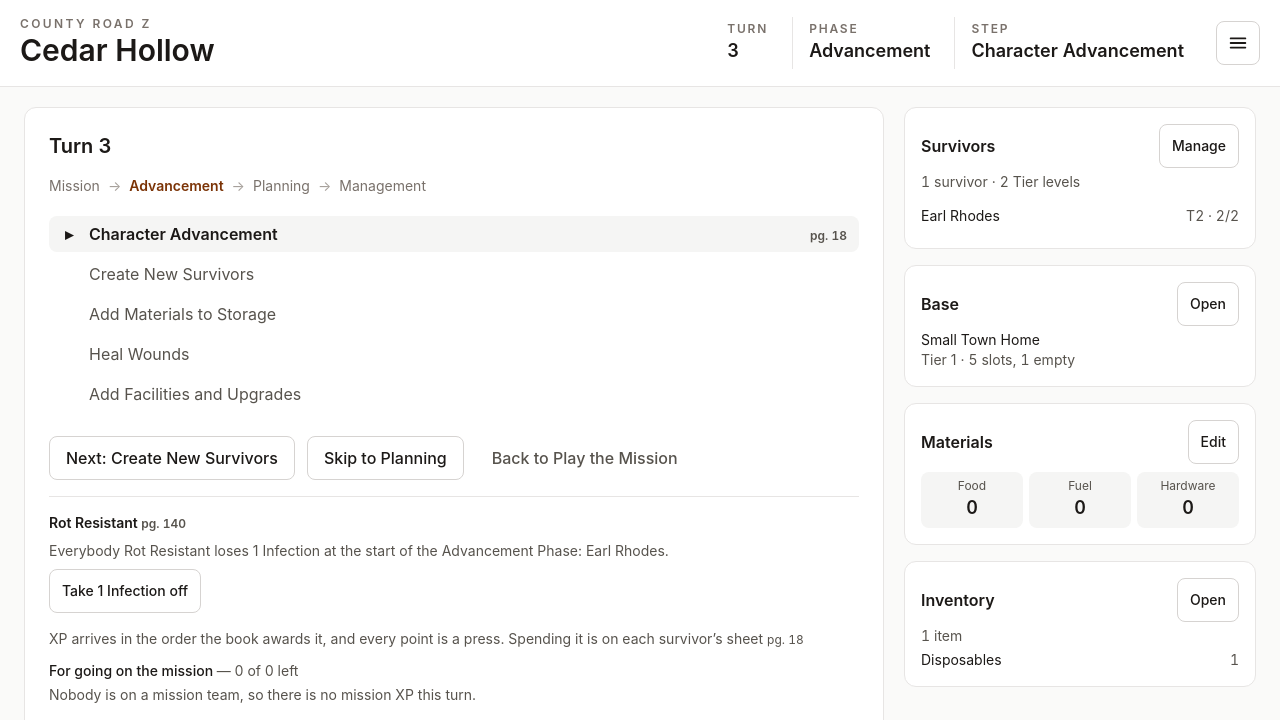
Scenario: Rot Resistant at Character Advancement (pg. 140; R96) › takes 1 Infection off everybody Rot Resistant, once
Check: the text "loses 1 Infection at the start of the Advancement Phase: Earl Rhodes" is shown, box [49,542,669,558]
Click the button "Take 1 Infection off".
click(125, 590)  # box [49,568,201,612]
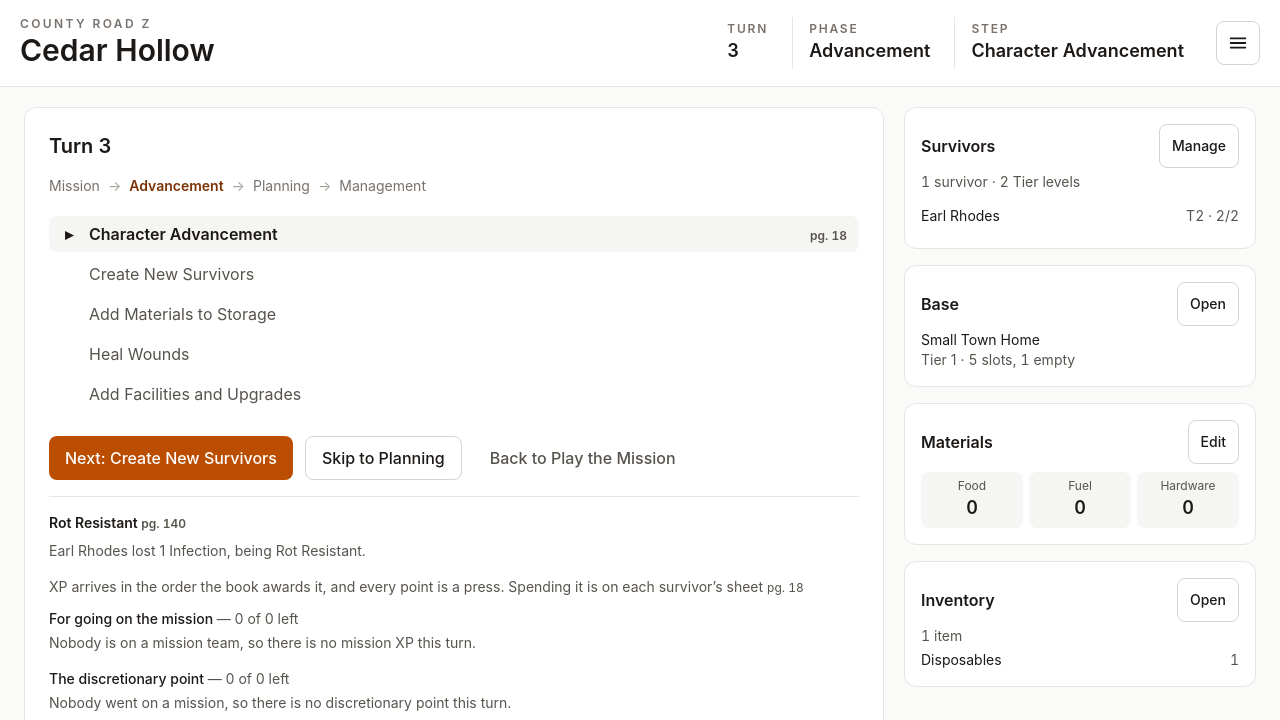
Check: the text "Earl Rhodes lost 1 Infection, being Rot Resistant." is shown, box [49,542,366,558]
Check: the button "Take 1 Infection off" is gone
Click the button named "menu".
click(1238, 43)  # box [1216,21,1260,65]
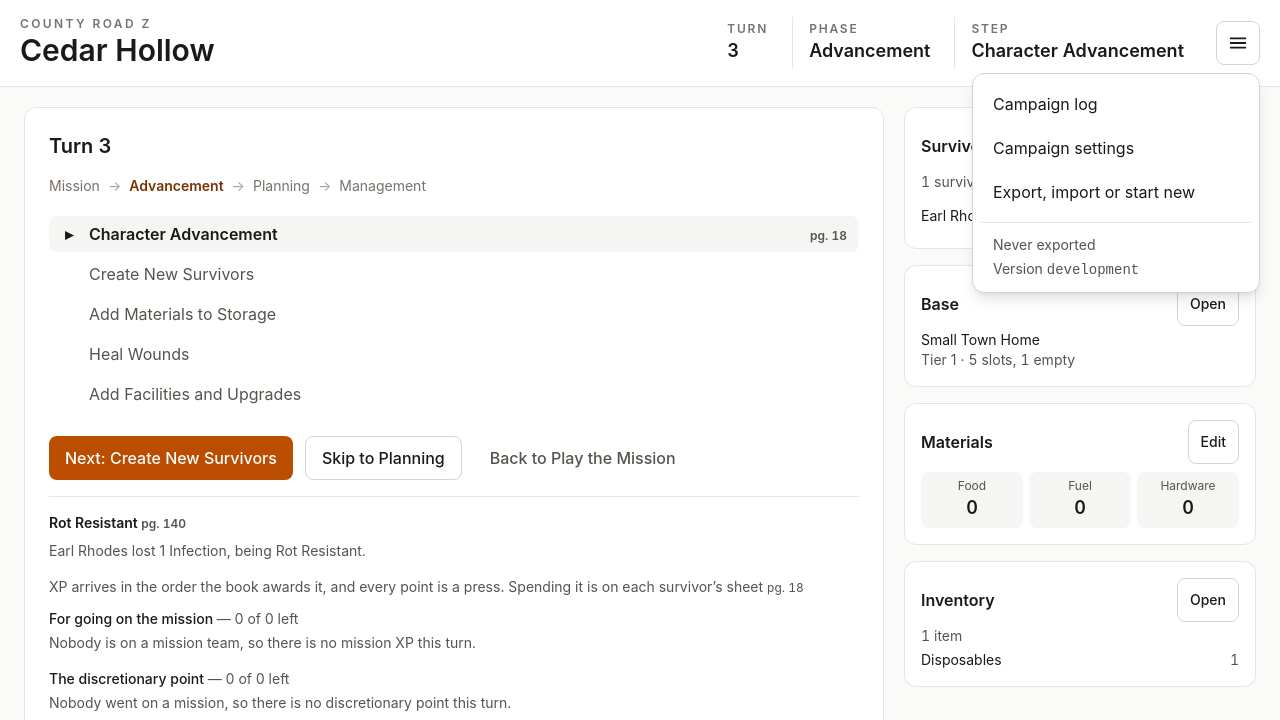
Click the button "Campaign log".
click(1045, 104)  # box [981,82,1251,126]
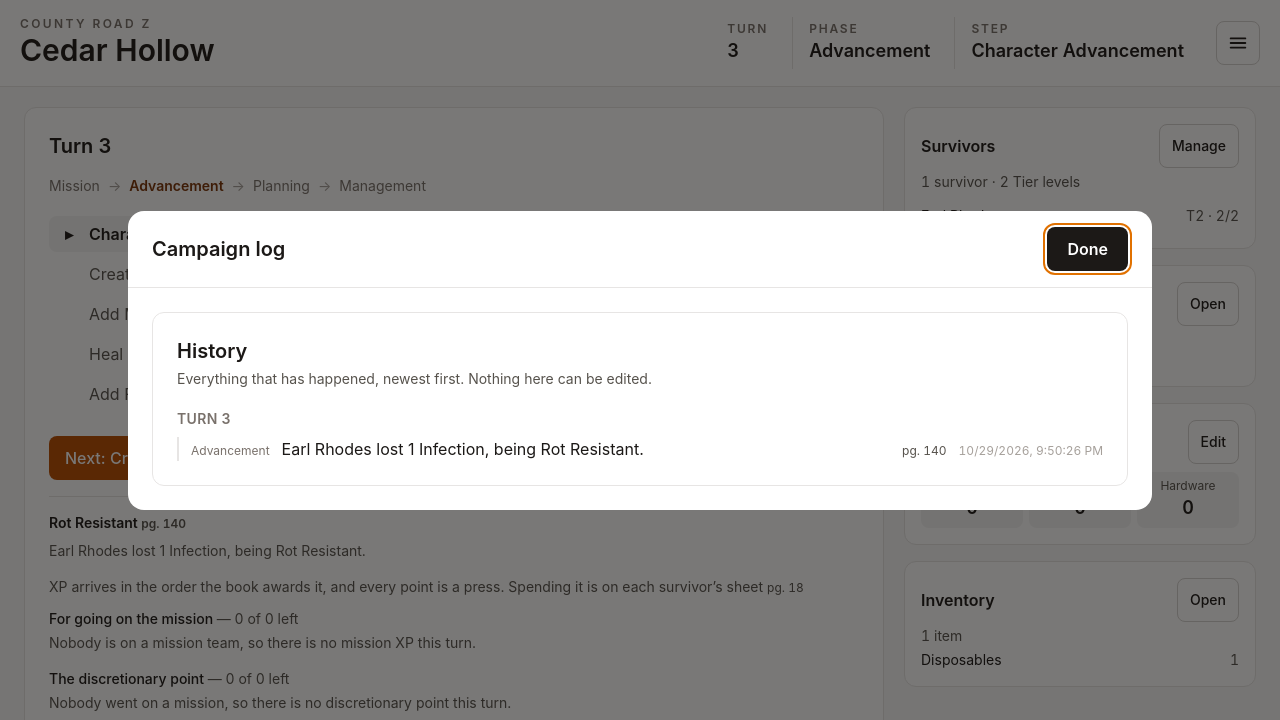
Check: the element "History" shows "Earl Rhodes lost 1 Infection, being Rot Resistant.", box [282,438,644,458]
